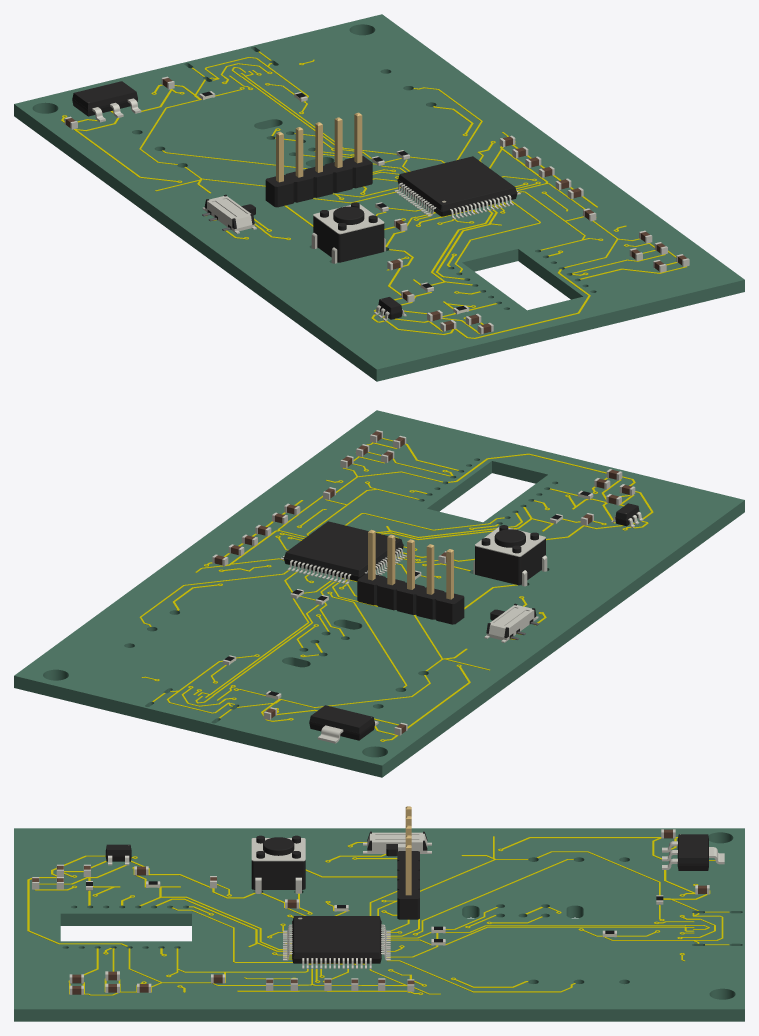
Rendered from usbmouseconnectorgeneric.glb.
The picture shows the model from 3 angles, top to bottom: view 1: azimuth 30°, elevation 25°; view 2: azimuth 150°, elevation 25°; view 3: azimuth 270°, elevation 25°; orthographic projection.
Visible parts, largest first — view 1: =>[0:1:1:12], =>[0:1:1:10], J1, U1, SW1, U2, SW3; view 2: =>[0:1:1:12], =>[0:1:1:10], J1, U1, SW1, U2, SW3; view 3: =>[0:1:1:12], =>[0:1:1:10], U1, SW1, J1, U2, SW3, U4.
Part boxes in pixels (<box>): =>[0:1:1:12]: <box>14,14,744,381</box>; =>[0:1:1:10]: <box>61,51,686,338</box>; J1: <box>265,112,372,207</box>; U1: <box>394,156,520,219</box>; SW1: <box>311,202,385,263</box>; U2: <box>72,81,141,122</box>; SW3: <box>202,194,256,233</box>; =>[0:1:1:12]: <box>14,410,744,777</box>; =>[0:1:1:10]: <box>139,438,653,741</box>; J1: <box>357,529,464,624</box>; U1: <box>280,521,406,584</box>; SW1: <box>473,525,547,586</box>; U2: <box>309,705,378,743</box>; SW3: <box>484,603,539,642</box>; =>[0:1:1:12]: <box>14,828,744,1021</box>; =>[0:1:1:10]: <box>27,836,729,995</box>; U1: <box>283,916,390,968</box>; SW1: <box>251,835,305,893</box>; J1: <box>397,806,419,919</box>; U2: <box>662,834,724,870</box>; SW3: <box>363,831,431,856</box>; U4: <box>105,844,131,865</box>.
Bounding box in the file's own units: 0.0477 × 0.012 × 0.0815.
